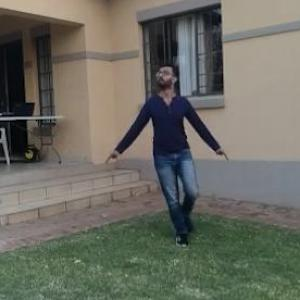land: (120, 75, 214, 225)
